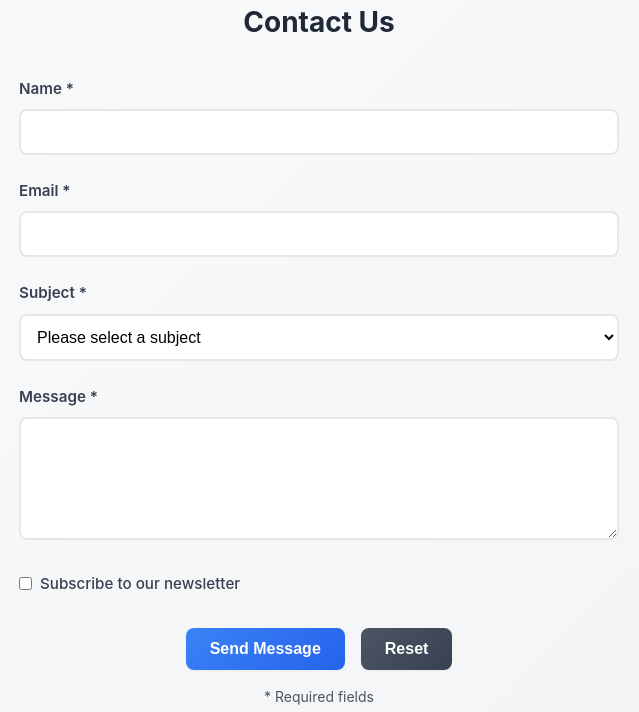
it: Lesson 2: ContactForm Component - Forms & Async Testing › Async Form Submission › shows success message after successful submission
The image size is (639, 712).
// Fill out valid form
Type "Jane Smith" into the field labelled "Name *" at (319, 132), box [19, 109, 619, 155]
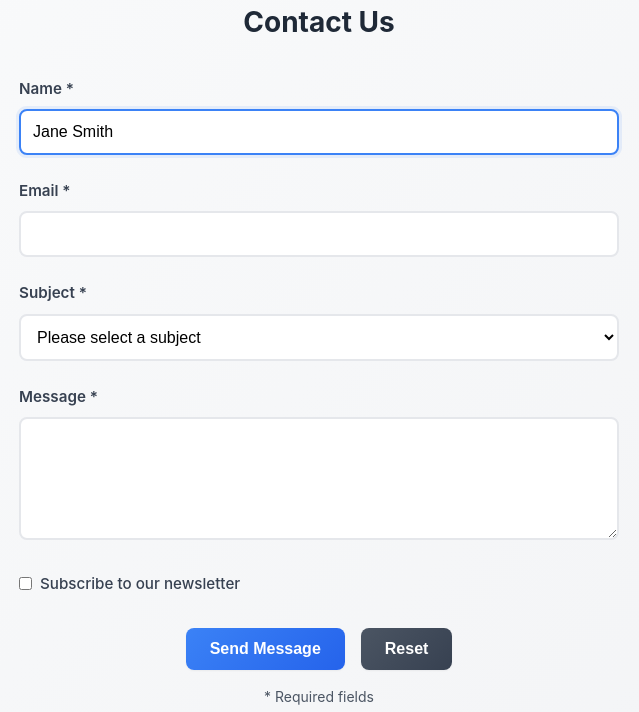
Type "jane@example.com" into the field labelled "Email *" at (319, 234), box [19, 211, 619, 257]
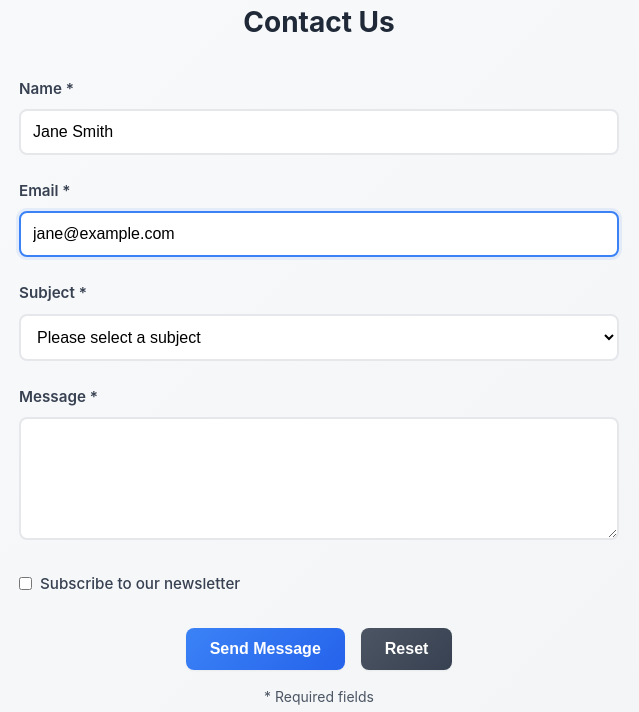
Select "Feedback" in the dropdown labelled "Subject *" at (319, 337), box [19, 314, 619, 361]
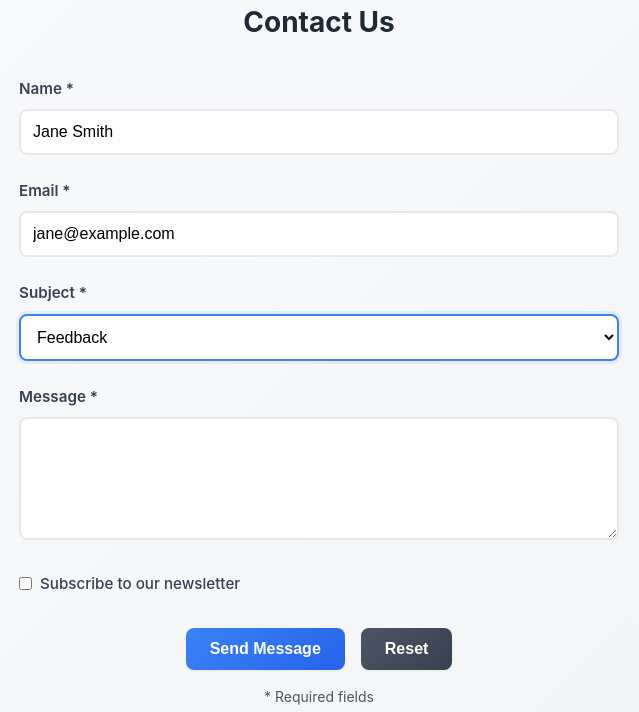
Type "Great service! Keep up the good work." into the text box labelled "Message *" at (319, 478), box [19, 417, 619, 540]
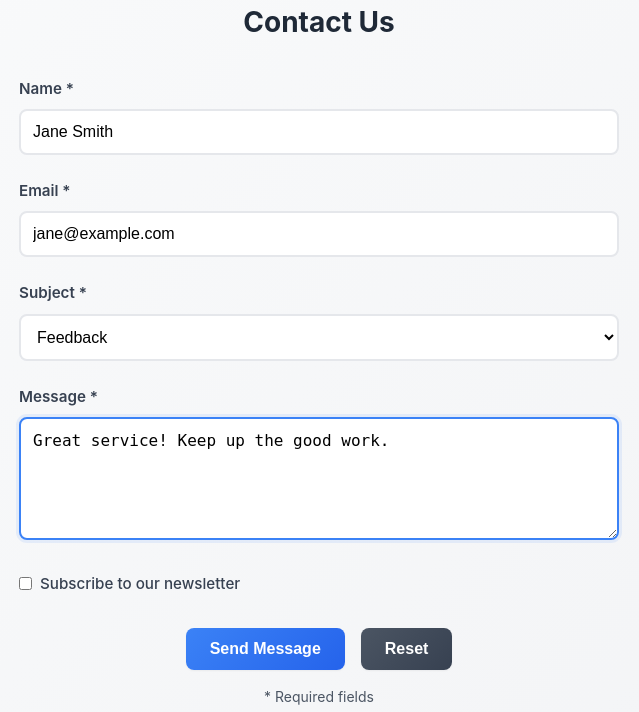
Click the button "Send Message" at (265, 649), box [186, 628, 345, 670]
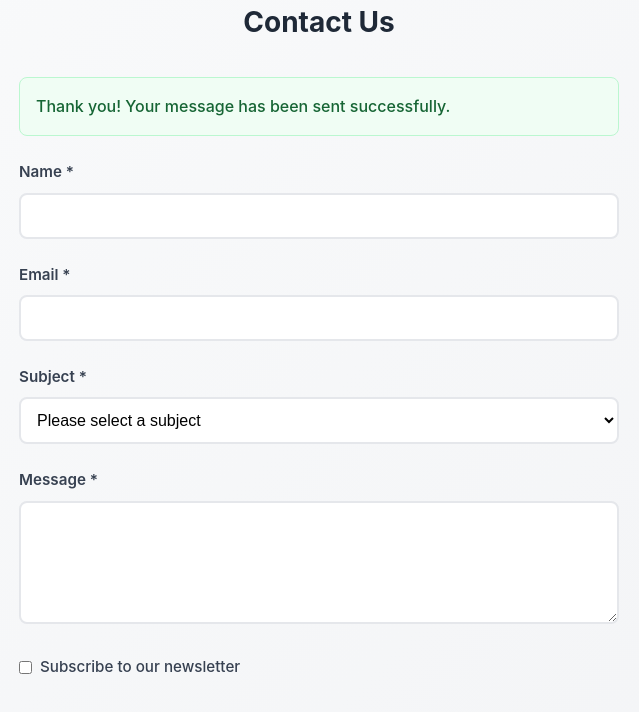
Check: the message with test id "success-message" reads "Thank you! Your message has been sent successfully.", box [36, 96, 450, 116]
